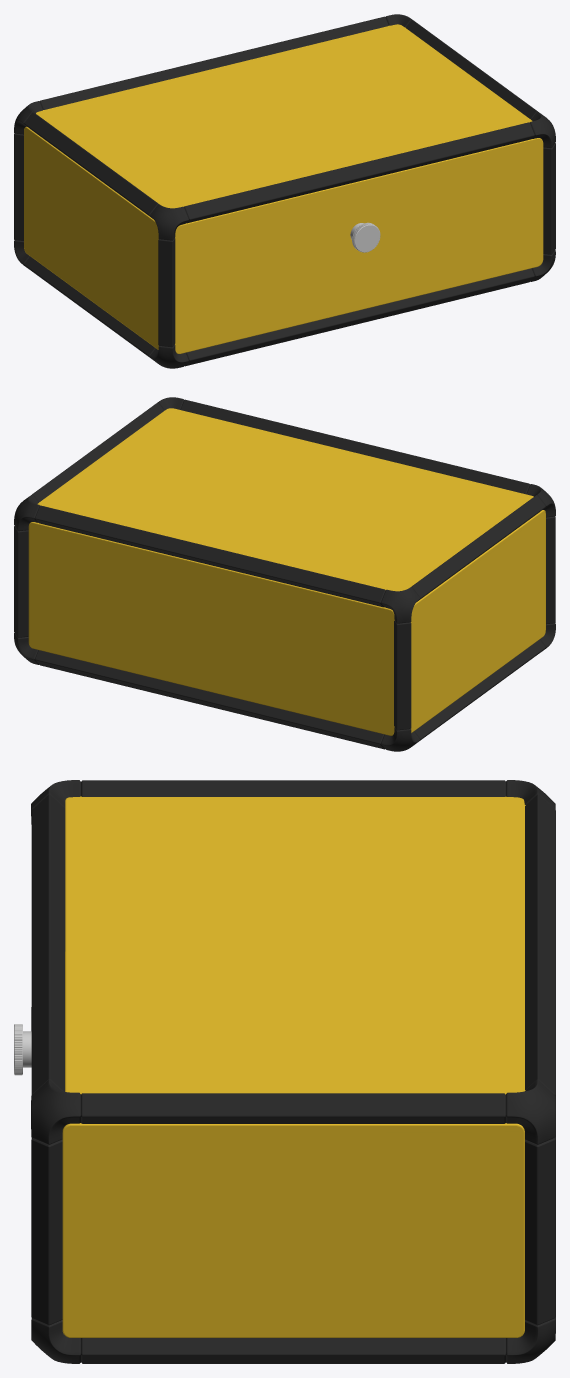
3 renders of one model, top to bottom at view 1: azimuth 30°, elevation 25°; view 2: azimuth 150°, elevation 25°; view 3: azimuth 270°, elevation 25°, orthographic. The views are drawn at different scales.
Parts seen in each view (by area): view 1: 523x329x154; view 2: 523x329x154; view 3: 523x329x154.
Boxes of the visible parts, x1,y1,x2,y2 form: 523x329x154: (14,14,555,368); 523x329x154: (14,397,555,751); 523x329x154: (14,780,555,1363).
Bounding box in the file's own units: 0.6007 × 0.2316 × 0.4196.
